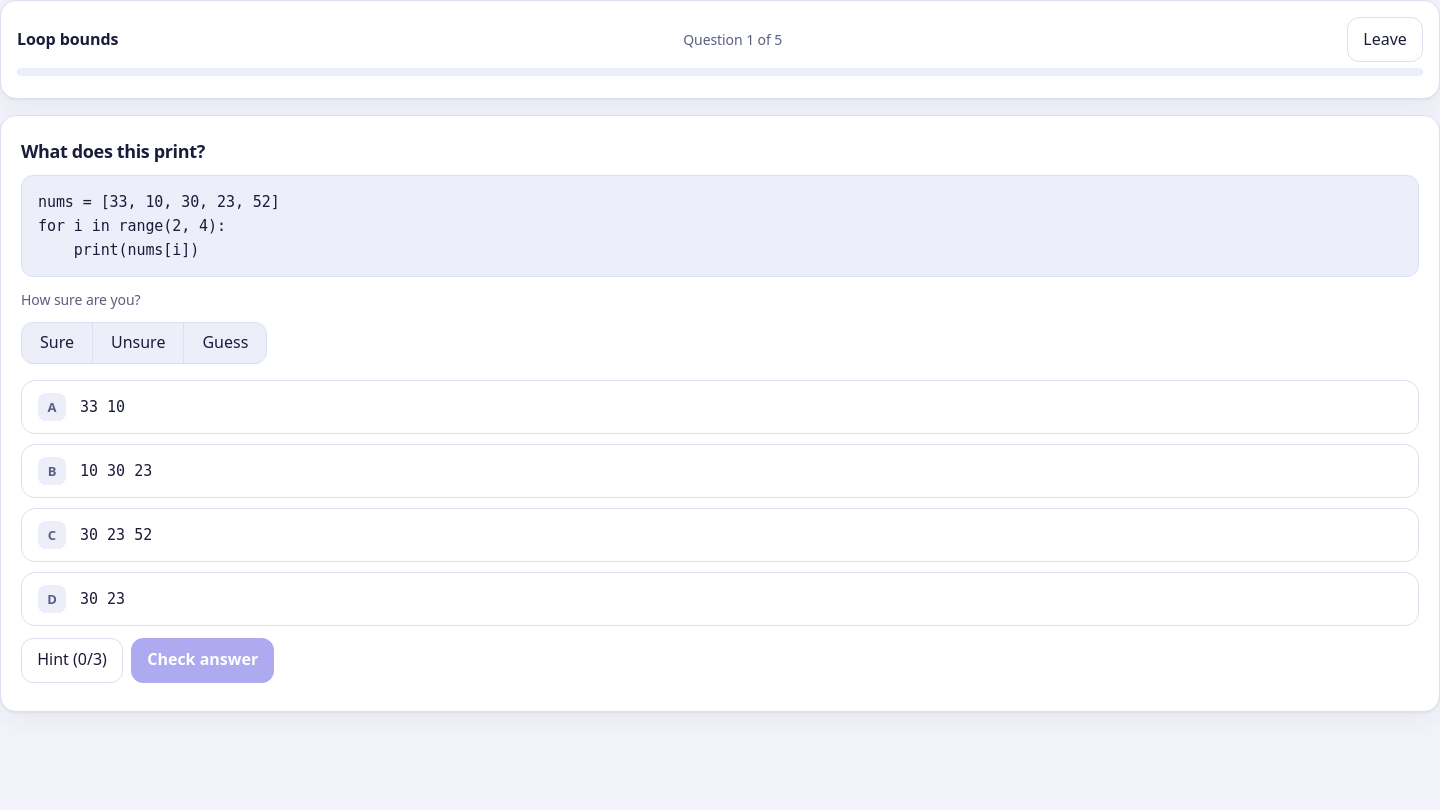
Scenario: Practice screen: after a wrong answer › offers exactly two clear choices: see the right solution, or skip to the next question
Expected: the text "Question 1 of 5" is shown, [683,29,782,50]
Click the button "sure" at (57,343), box [22,323,92,363]
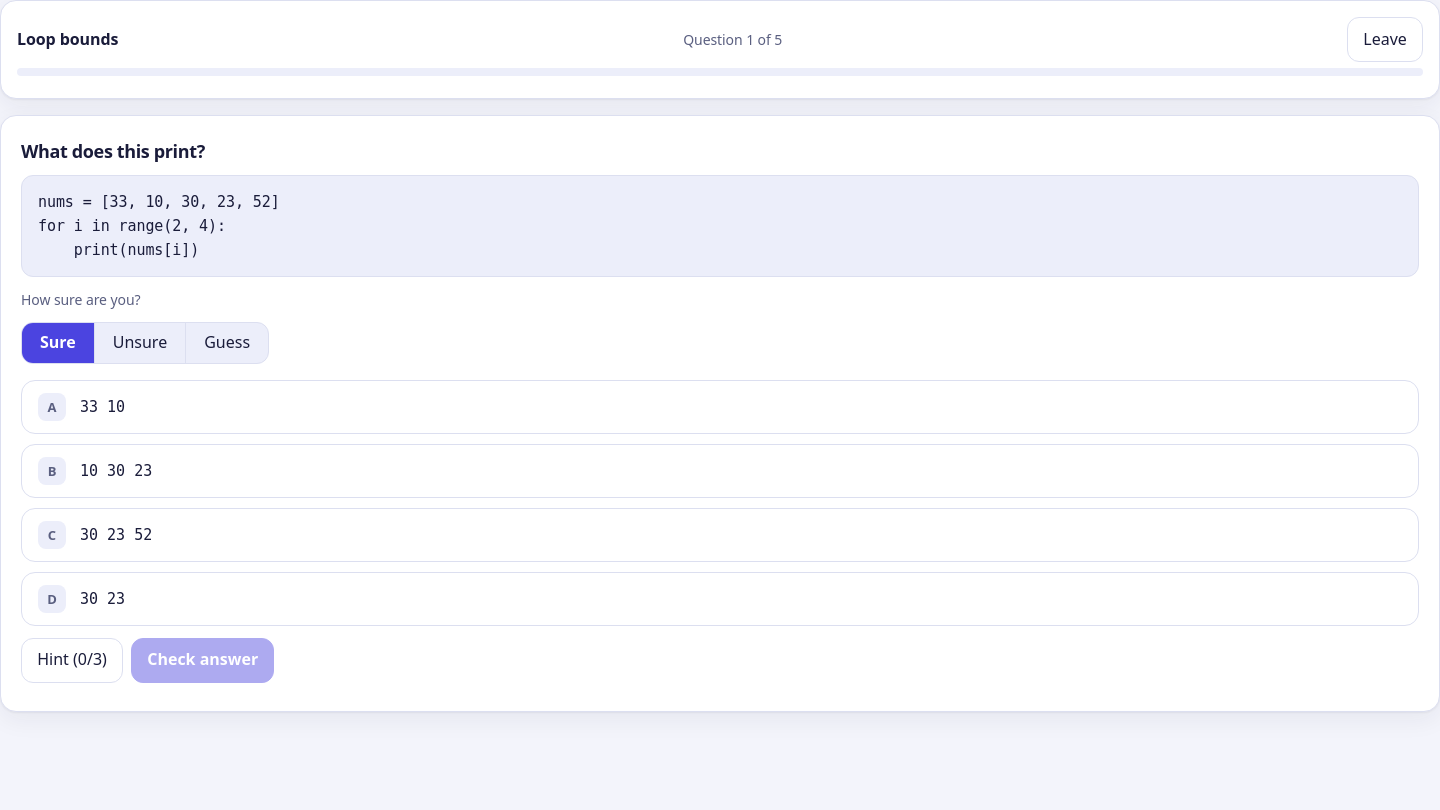
Click the button "33 10" at (103,407), box [21,380,1419,434]
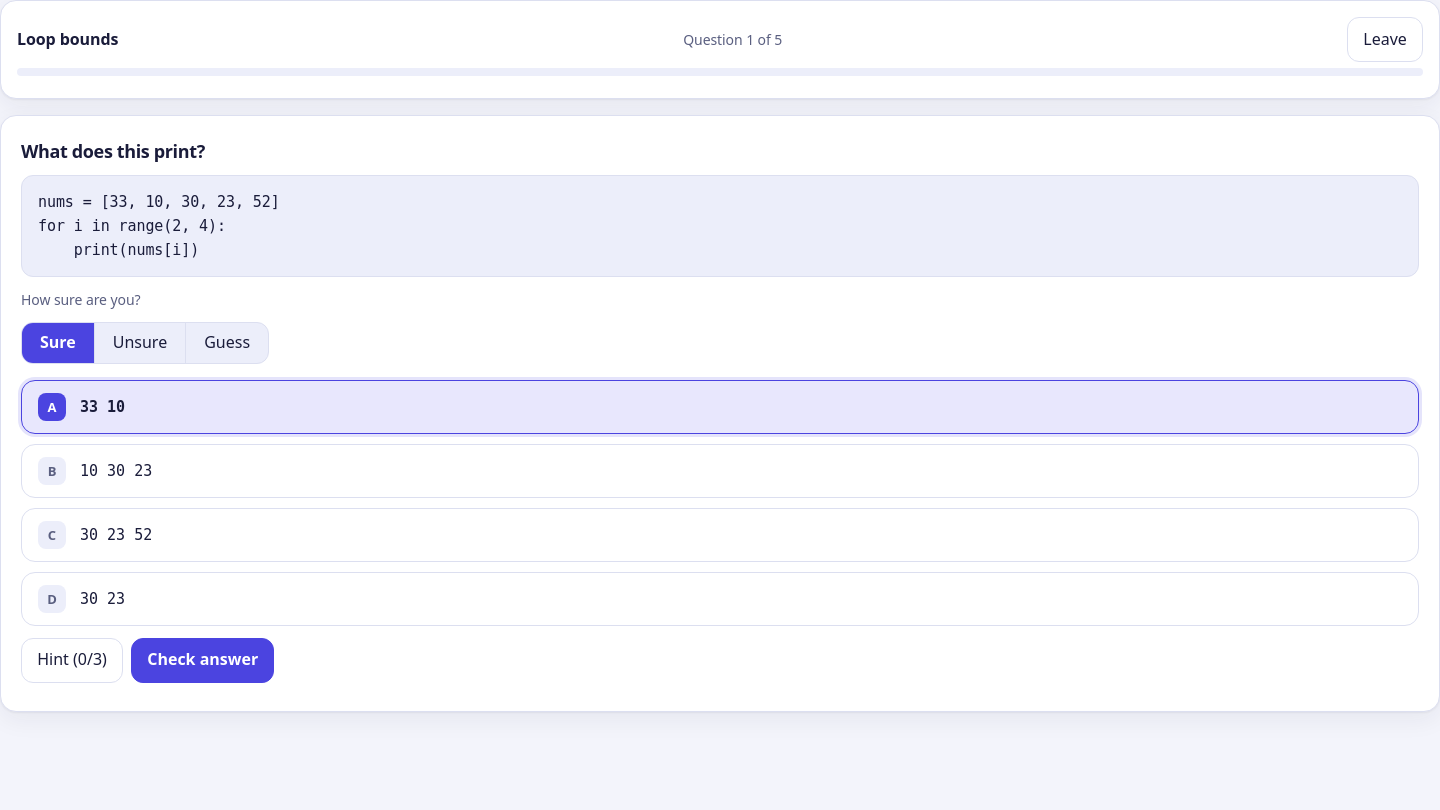
Click the button "Check answer" at (203,660), box [131,638,274,683]
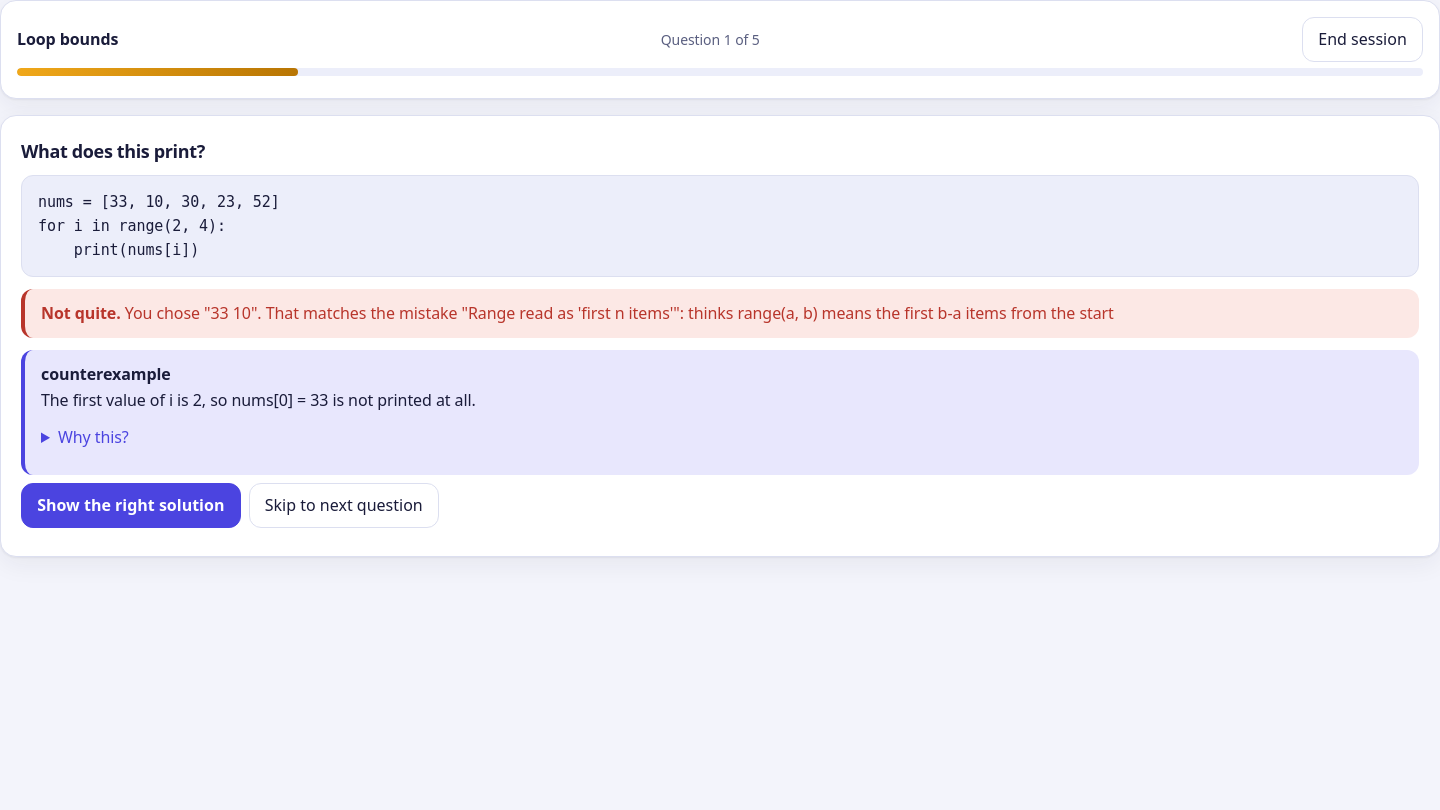
Expected: the button "Show the right solution" is shown, [21,483,241,528]
Expected: the button "Skip to next question" is shown, [249,483,439,528]
